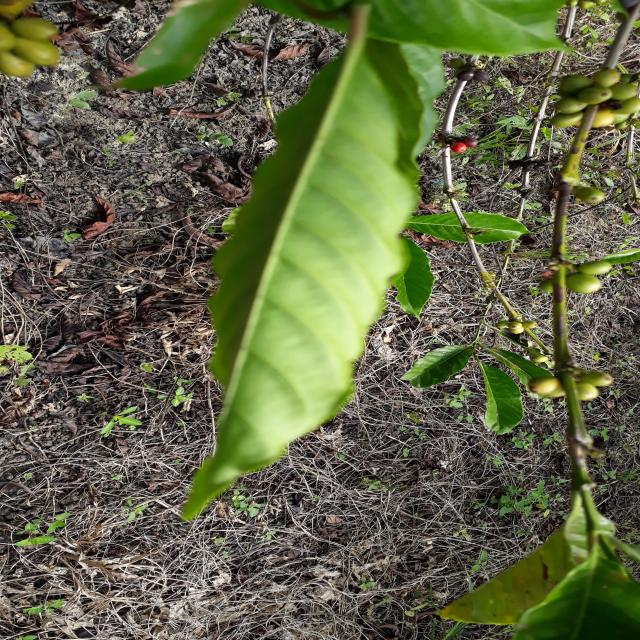Sanas: (178, 0, 433, 524)
